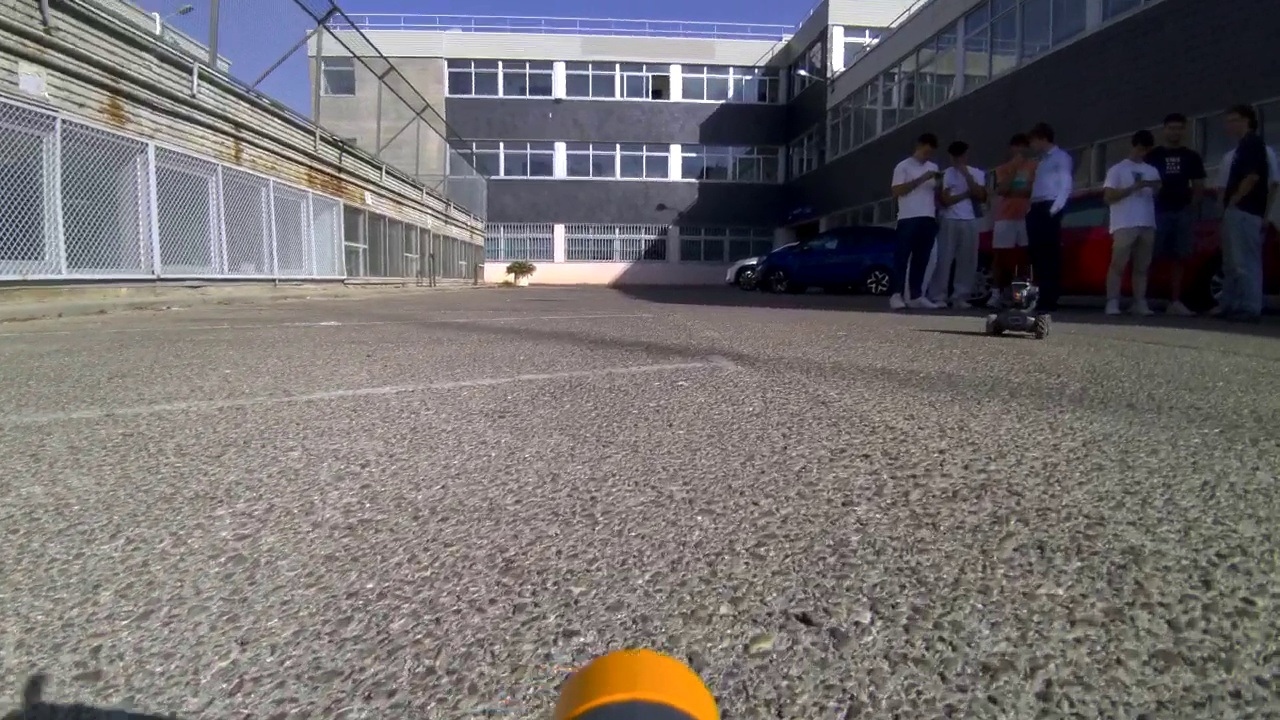robot: (983, 268, 1051, 346)
